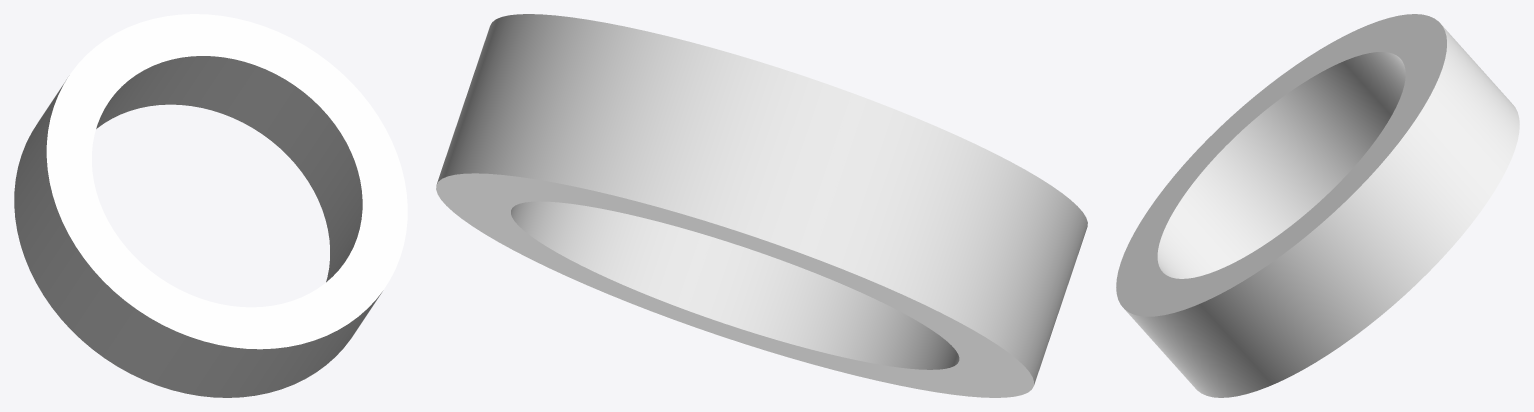
The model's file is white_tube.fbx.
3 views of the same model, side by side, from view 1: azimuth 30°, elevation 25°; view 2: azimuth 150°, elevation 25°; view 3: azimuth 270°, elevation 25° (orthographic). The views are drawn at different scales.
Visible parts, largest first — view 1: root; view 2: root; view 3: root.
Boxes of the visible parts, x1,y1,x2,y2 form: root: (14,14,407,397); root: (436,14,1087,397); root: (1116,14,1519,397).
Size of the model in its own units: 0.0879 by 0.0739 by 0.0833.
1 material, 1 textured.
